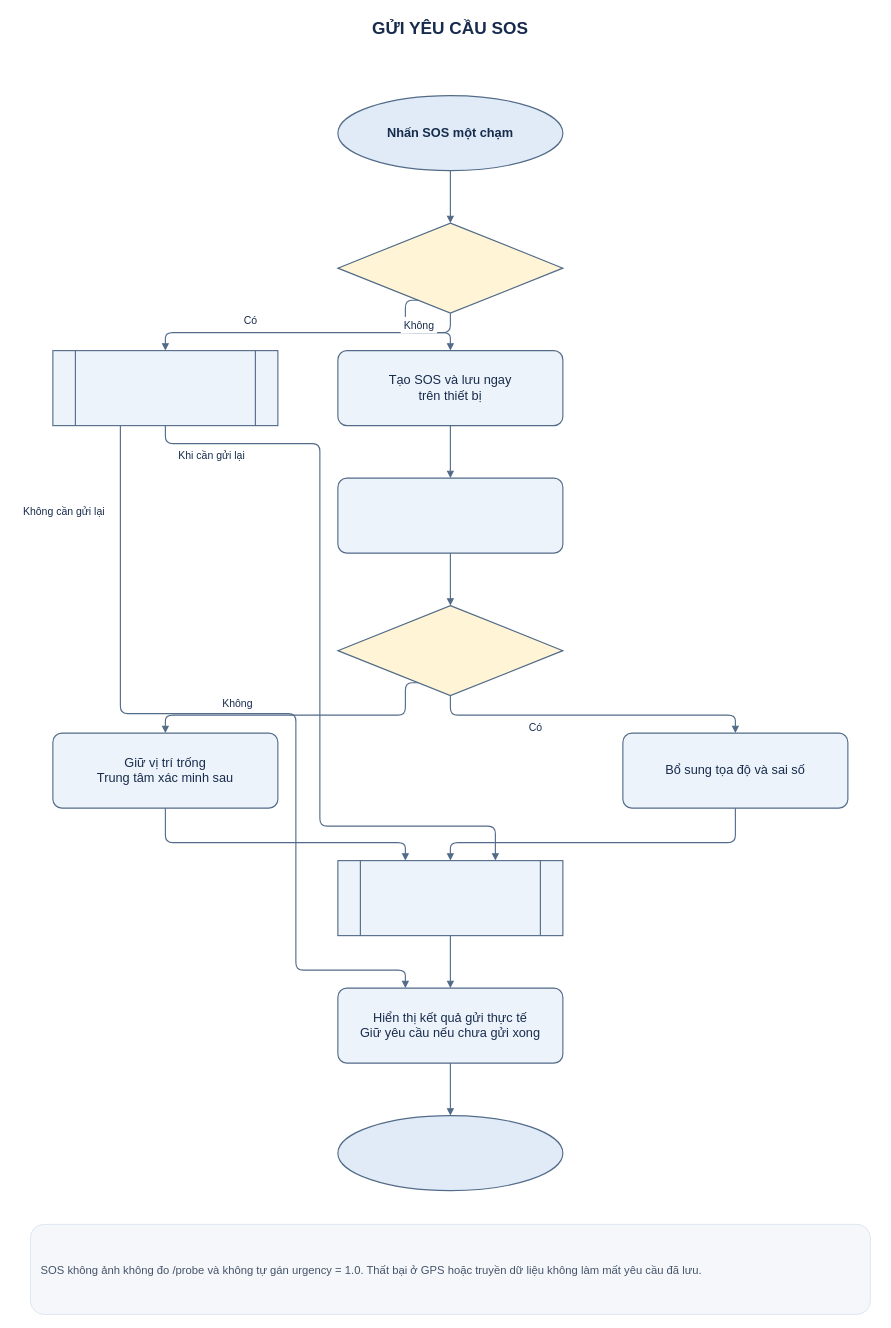
This 891x1328 diagram has some shape labels left out. Each missing label, with the centre of its shape:
Có SOS vừa tạo trong 30 giây?: (450,267)
Có vị trí?: (450,650)
Dùng lại SOS gần nhất Gửi lại khi đủ điều kiện: (165,388)
Gửi thông tin qua Internet SMS dự phòng khi đủ điều kiện: (450,898)
Hoàn tất thao tác SOS: (450,1153)
Thử lấy vị trí trong thời gian giới hạn: (450,515)
